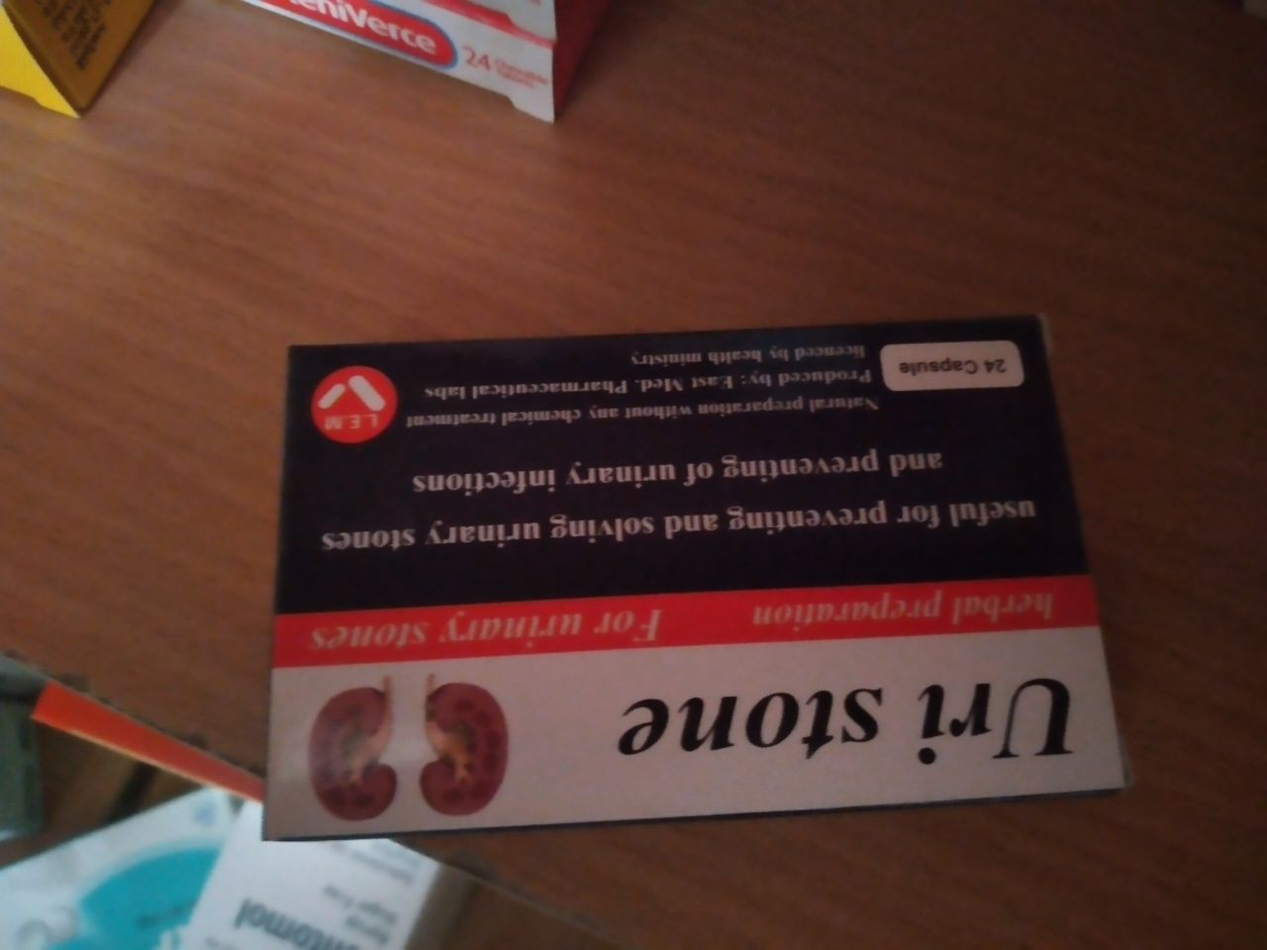Medicine: (235, 302, 1131, 883)
